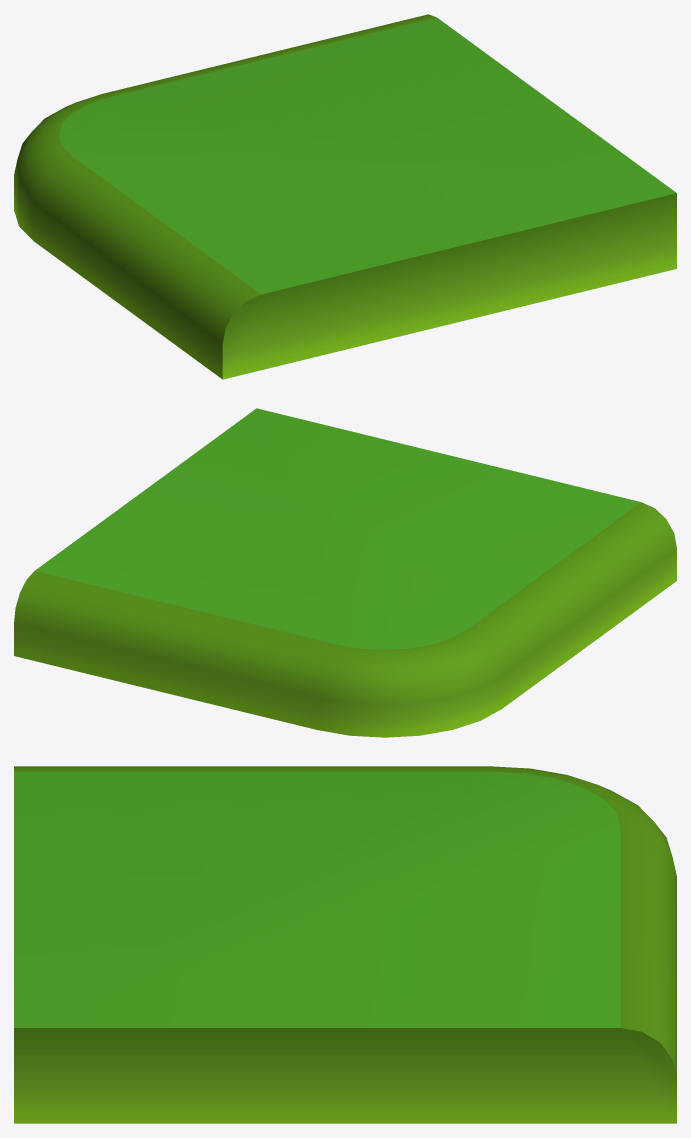
The model's file is GF_Corner_2_2.glb.
The picture shows the model from 3 angles, top to bottom: view 1: azimuth 30°, elevation 25°; view 2: azimuth 150°, elevation 25°; view 3: azimuth 270°, elevation 25°; orthographic projection. The views are drawn at different scales.
Parts seen in each view (by area): view 1: GF_Corner_2_2; view 2: GF_Corner_2_2; view 3: GF_Corner_2_2.
Part boxes in pixels (box(x1,y1,x2,y2)): GF_Corner_2_2: box(14, 14, 676, 379); GF_Corner_2_2: box(14, 408, 676, 737); GF_Corner_2_2: box(14, 766, 676, 1123).
Bounding box in the file's own units: 2 × 0.3187 × 2.
1 material, 1 textured.
